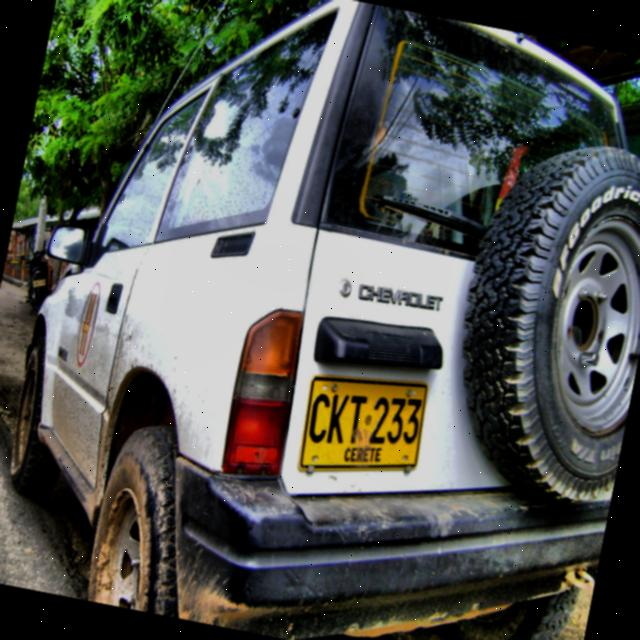2: (367, 397, 391, 445)
3: (386, 396, 407, 445), (402, 397, 423, 446)
C: (306, 394, 332, 453)
K: (326, 393, 351, 445)
T: (345, 394, 369, 445)
